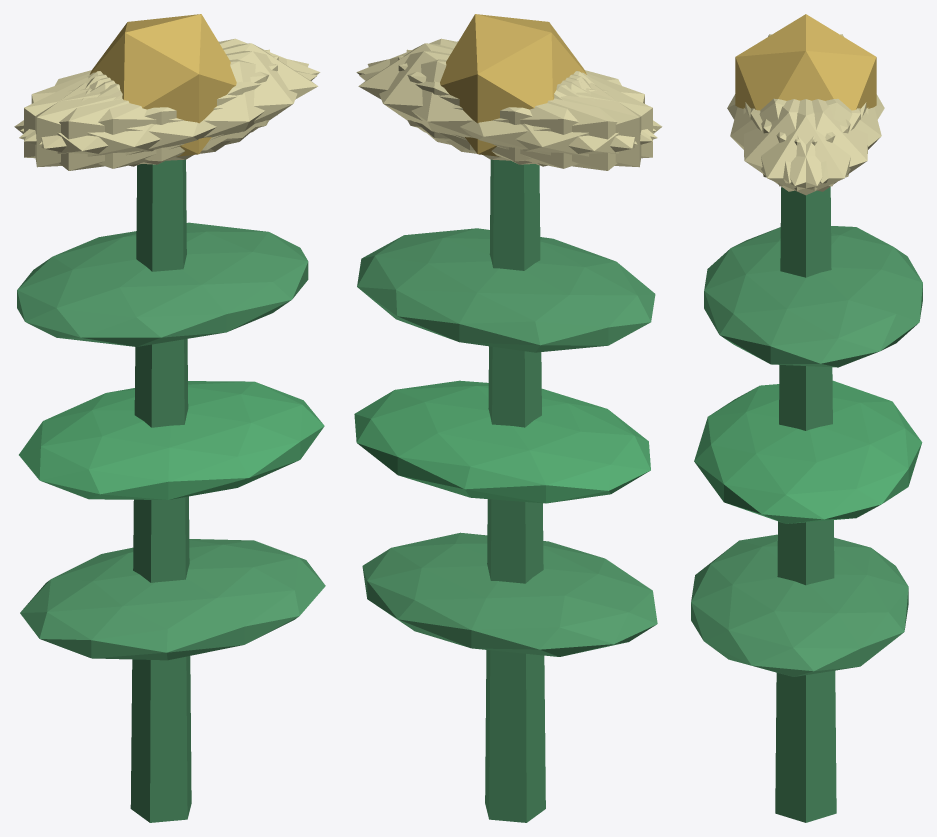
File: entada-gigas.glb
3 views of the same model, side by side, from view 1: azimuth 30°, elevation 25°; view 2: azimuth 150°, elevation 25°; view 3: azimuth 270°, elevation 25° (orthographic).
Parts seen in each view (by area): view 1: leaf1, leaf0, leaf2, stem, center, petal1, petal6, petal2, petal5, petal7, petal0, petal4 (+2 smaller); view 2: leaf2, leaf1, leaf0, stem, center, petal8, petal3, petal7, petal4, petal2, petal0, petal5 (+2 smaller); view 3: leaf1, leaf2, leaf0, stem, center, petal0, petal4, petal5, petal8, petal1.
Part boxes in pixels (box(x1,y1,x2,y2)): leaf1: box(19, 381, 324, 499); leaf0: box(20, 539, 325, 660); leaf2: box(17, 222, 308, 346); stem: box(130, 159, 191, 822); center: box(89, 14, 236, 156); petal1: box(19, 59, 317, 168); petal6: box(14, 72, 230, 170); petal2: box(35, 49, 269, 167); petal5: box(39, 51, 308, 161); petal7: box(24, 56, 278, 164); petal0: box(89, 43, 317, 150); petal4: box(20, 38, 320, 141); leaf2: box(357, 228, 655, 352); leaf1: box(354, 380, 650, 503); leaf0: box(362, 532, 657, 656); stem: box(485, 159, 545, 822); center: box(440, 14, 586, 156); petal8: box(359, 59, 657, 168); petal3: box(446, 72, 662, 170); petal7: box(406, 49, 641, 167); petal4: box(367, 51, 637, 161); petal2: box(398, 56, 652, 164); petal0: box(358, 43, 587, 150); petal5: box(356, 38, 656, 141); leaf1: box(694, 380, 922, 523); leaf2: box(704, 226, 922, 367); leaf0: box(691, 534, 908, 676); stem: box(775, 187, 836, 822); center: box(735, 14, 876, 110); petal0: box(745, 99, 866, 195); petal4: box(750, 99, 868, 191); petal5: box(743, 99, 860, 191); petal8: box(761, 98, 881, 183); petal1: box(730, 98, 850, 183).
Size of the model in its own units: 0.1452 by 0.3719 by 0.1006.
